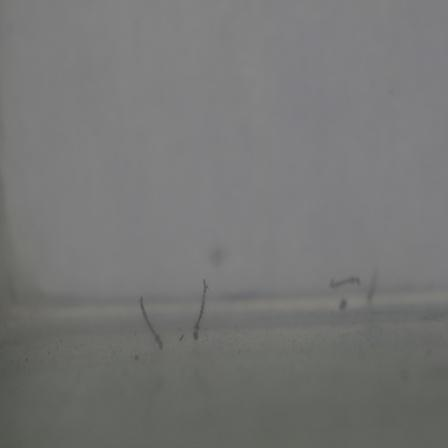Jentik-Nyamuk: (136, 293, 167, 355), (190, 278, 215, 343)
